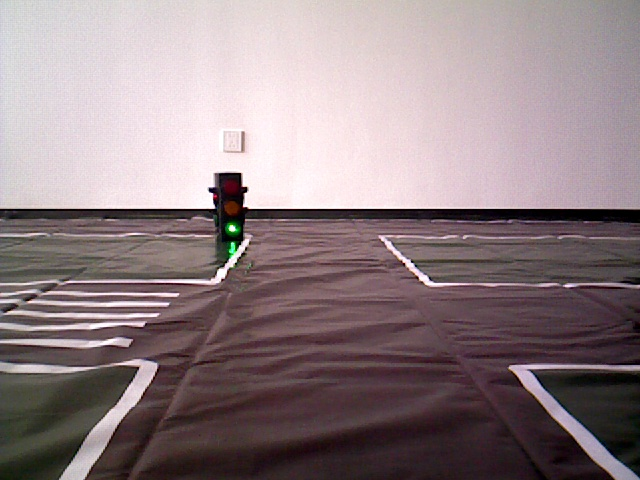green: (218, 180, 244, 240)
